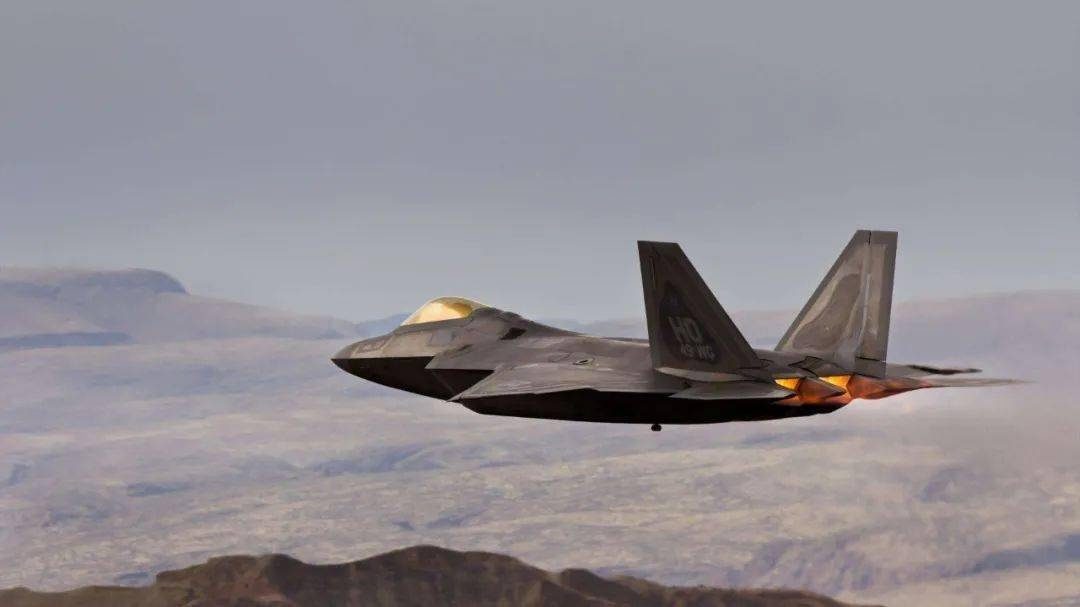airplane: (316, 207, 1032, 435)
